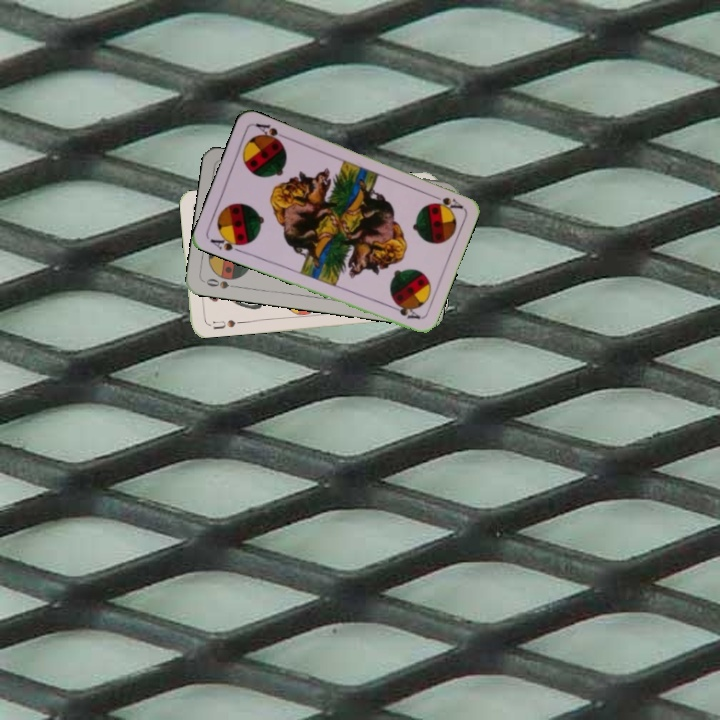SA: (206, 231, 248, 255), (426, 190, 465, 211)
SO: (200, 275, 240, 291)
SU: (209, 316, 238, 332)
